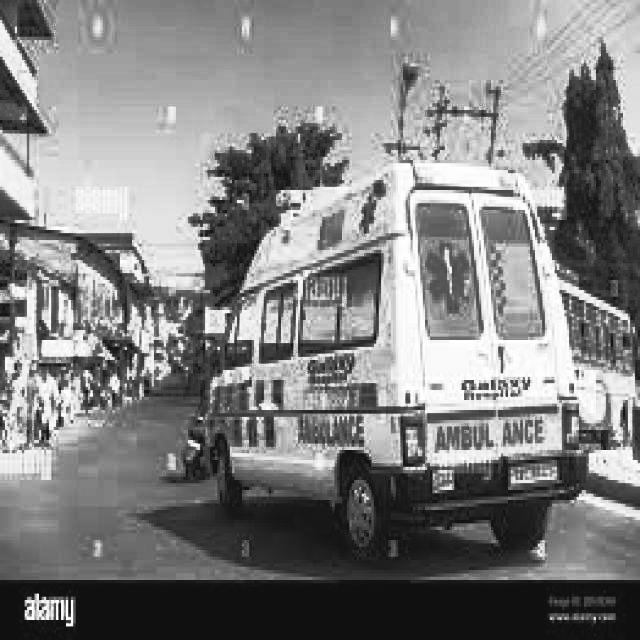LCV: (401, 168, 586, 508)
